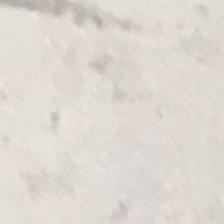Non_Crack: (37, 43, 224, 217)
